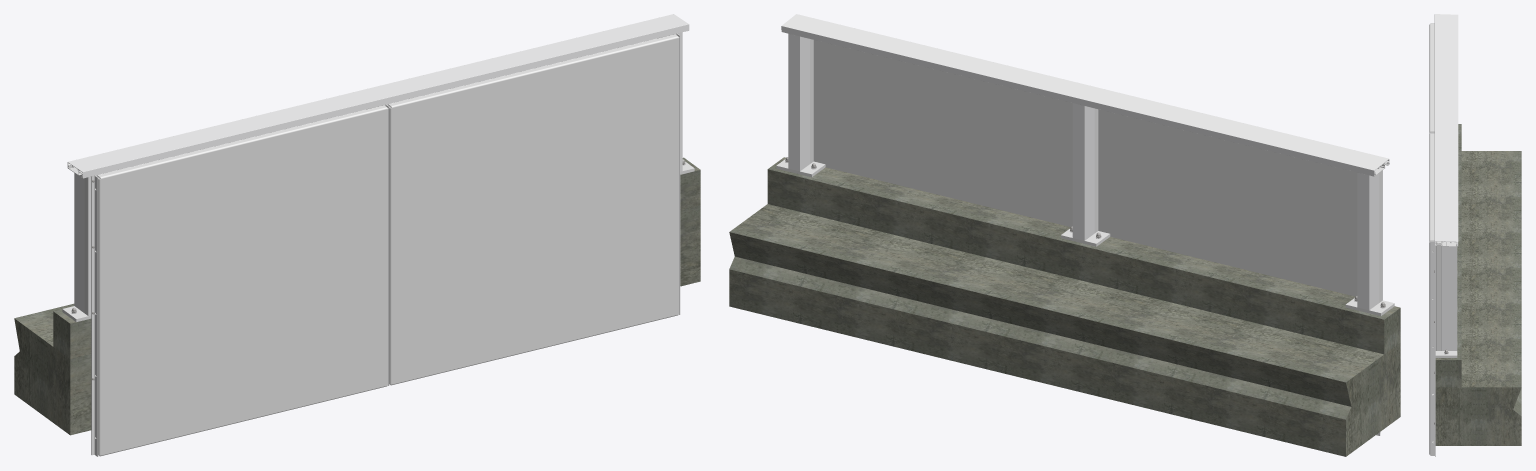
The model's file is T Bar Balustrade Setout.obj.
3 renders of one model, left to right at view 1: azimuth 30°, elevation 25°; view 2: azimuth 150°, elevation 25°; view 3: azimuth 270°, elevation 25°, orthographic. The views are drawn at different scales.
Visible parts, largest first — view 1: Solid1:90, Solid1:91, Solid1:89, Solid1, Hob, Solid1:31, Solid1:30; view 2: Solid1, Solid1:90, Solid1:91, Hob, Solid1:89, Solid1:1, Solid1:30, Solid1:59; view 3: Solid1, Solid1:89, Solid1:59, Hob, Solid1:60, Solid1:91, Solid1:90, Solid1:62, Solid1:63.
Boxes of the visible parts, <box> form: Solid1:90: <box>96,105,388,456</box>; Solid1:91: <box>388,34,679,385</box>; Solid1:89: <box>67,14,689,178</box>; Solid1: <box>14,205,700,435</box>; Hob: <box>53,157,700,359</box>; Solid1:31: <box>91,175,98,456</box>; Solid1:30: <box>74,173,100,315</box>; Solid1: <box>729,204,1400,456</box>; Solid1:90: <box>1098,109,1357,296</box>; Solid1:91: <box>813,40,1072,226</box>; Hob: <box>767,157,1400,354</box>; Solid1:89: <box>781,14,1389,176</box>; Solid1:1: <box>1072,103,1098,240</box>; Solid1:30: <box>1357,170,1382,310</box>; Solid1:59: <box>788,33,813,171</box>; Solid1: <box>1435,151,1521,445</box>; Solid1:89: <box>1434,14,1458,246</box>; Solid1:59: <box>1435,243,1457,350</box>; Hob: <box>1435,124,1461,387</box>; Solid1:60: <box>1430,241,1435,456</box>; Solid1:91: <box>1429,133,1434,454</box>; Solid1:90: <box>1429,24,1434,133</box>; Solid1:62: <box>1436,243,1441,350</box>; Solid1:63: <box>1435,351,1457,357</box>.
Size of the model in its own units: 2600 by 1125 by 430.
